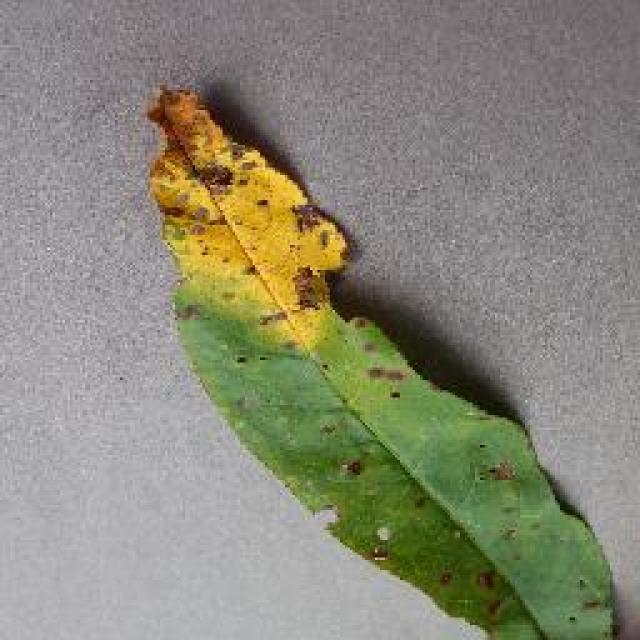Peach_Bacterial_Spot: (163, 75, 375, 395)
